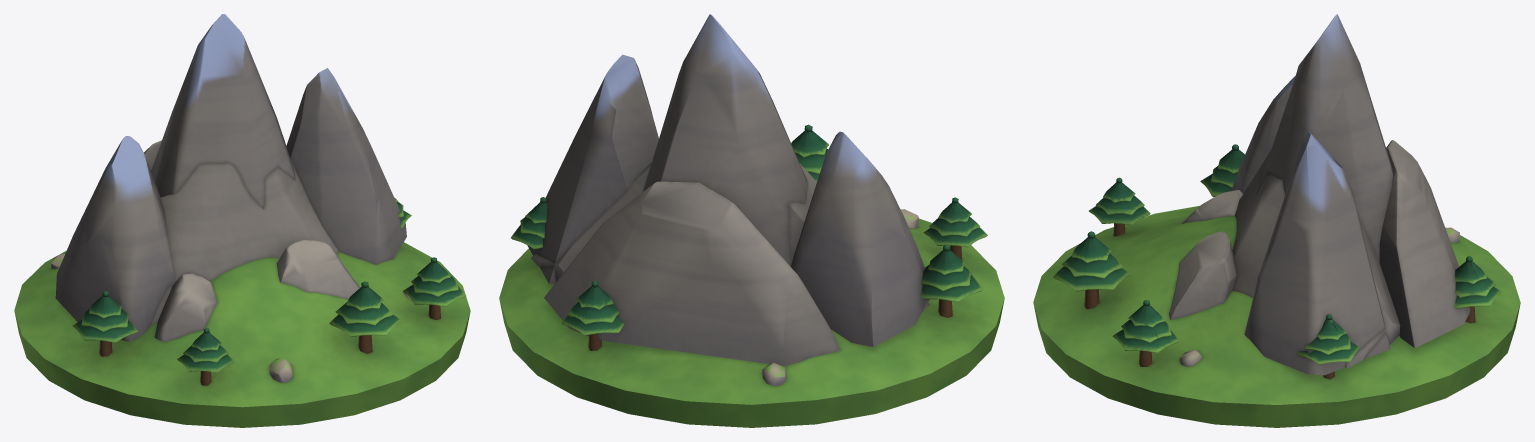
File: mountain.glb
3 views of the same model, side by side, from view 1: azimuth 30°, elevation 25°; view 2: azimuth 150°, elevation 25°; view 3: azimuth 270°, elevation 25° (orthographic). The views are drawn at different scales.
Parts seen in each view (by area): view 1: mountain; view 2: mountain; view 3: mountain.
Boxes of the visible parts, x1=… form: mountain: x1=14, y1=14, x2=470, y2=427; mountain: x1=499, y1=14, x2=1004, y2=427; mountain: x1=1033, y1=14, x2=1520, y2=427.
Size of the model in its own units: 1.64 by 1.18 by 1.64.
1 material, 1 textured.
